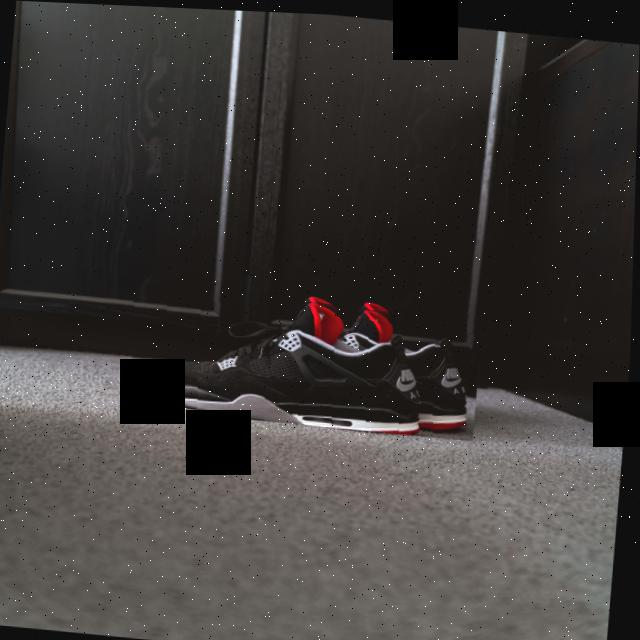shoe: (109, 276, 485, 437)
